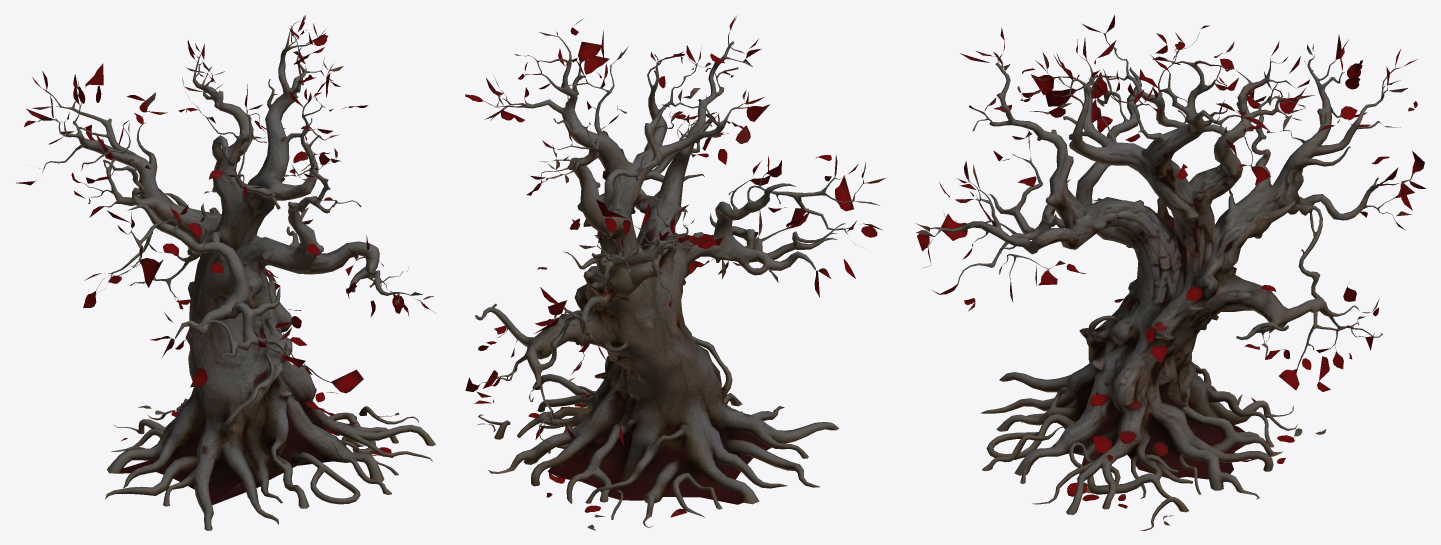
Rendered from tree.glb.
3 renders of one model, left to right at view 1: azimuth 30°, elevation 25°; view 2: azimuth 150°, elevation 25°; view 3: azimuth 270°, elevation 25°, orthographic. The views are drawn at different scales.
Visible parts, largest first — view 1: tripo_node_aa2f2d2f-4a5e-464c-ab07-a87c0bb1e088; view 2: tripo_node_aa2f2d2f-4a5e-464c-ab07-a87c0bb1e088; view 3: tripo_node_aa2f2d2f-4a5e-464c-ab07-a87c0bb1e088.
Boxes of the visible parts, x1,y1,x2,y2 form: tripo_node_aa2f2d2f-4a5e-464c-ab07-a87c0bb1e088: (16, 15, 436, 530); tripo_node_aa2f2d2f-4a5e-464c-ab07-a87c0bb1e088: (465, 15, 886, 530); tripo_node_aa2f2d2f-4a5e-464c-ab07-a87c0bb1e088: (916, 15, 1426, 530).
Size of the model in its own units: 0.8755 by 0.9556 by 0.9995.
Materials: 1 (1 with a texture image).
